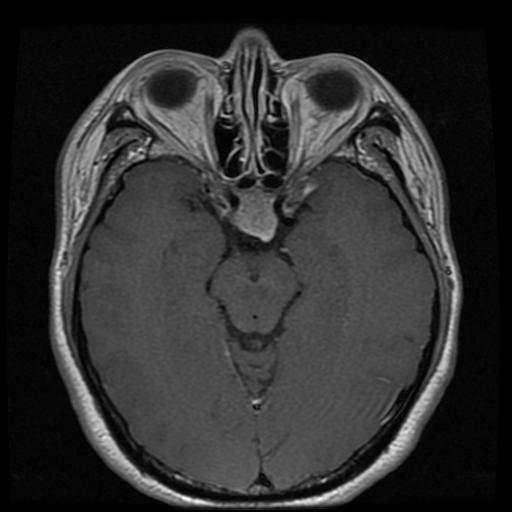Tumour-Pituitary: (188, 165, 327, 244)
